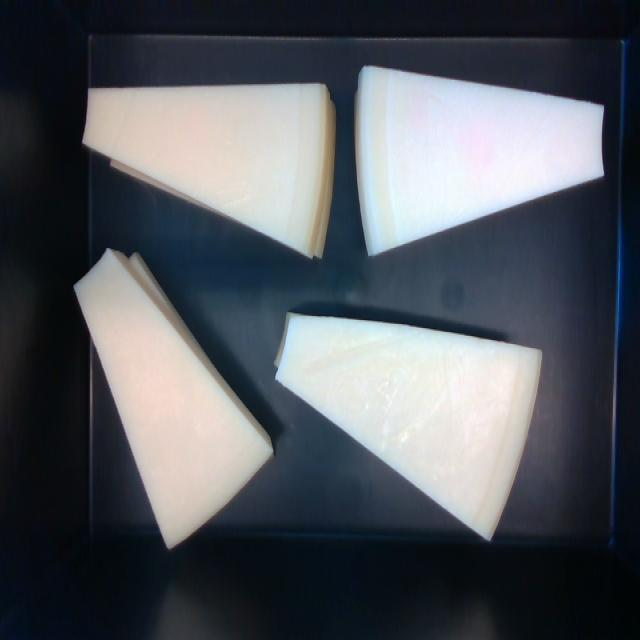Cheese: (275, 313, 541, 539), (76, 249, 272, 548), (357, 68, 603, 253), (83, 84, 334, 257)
